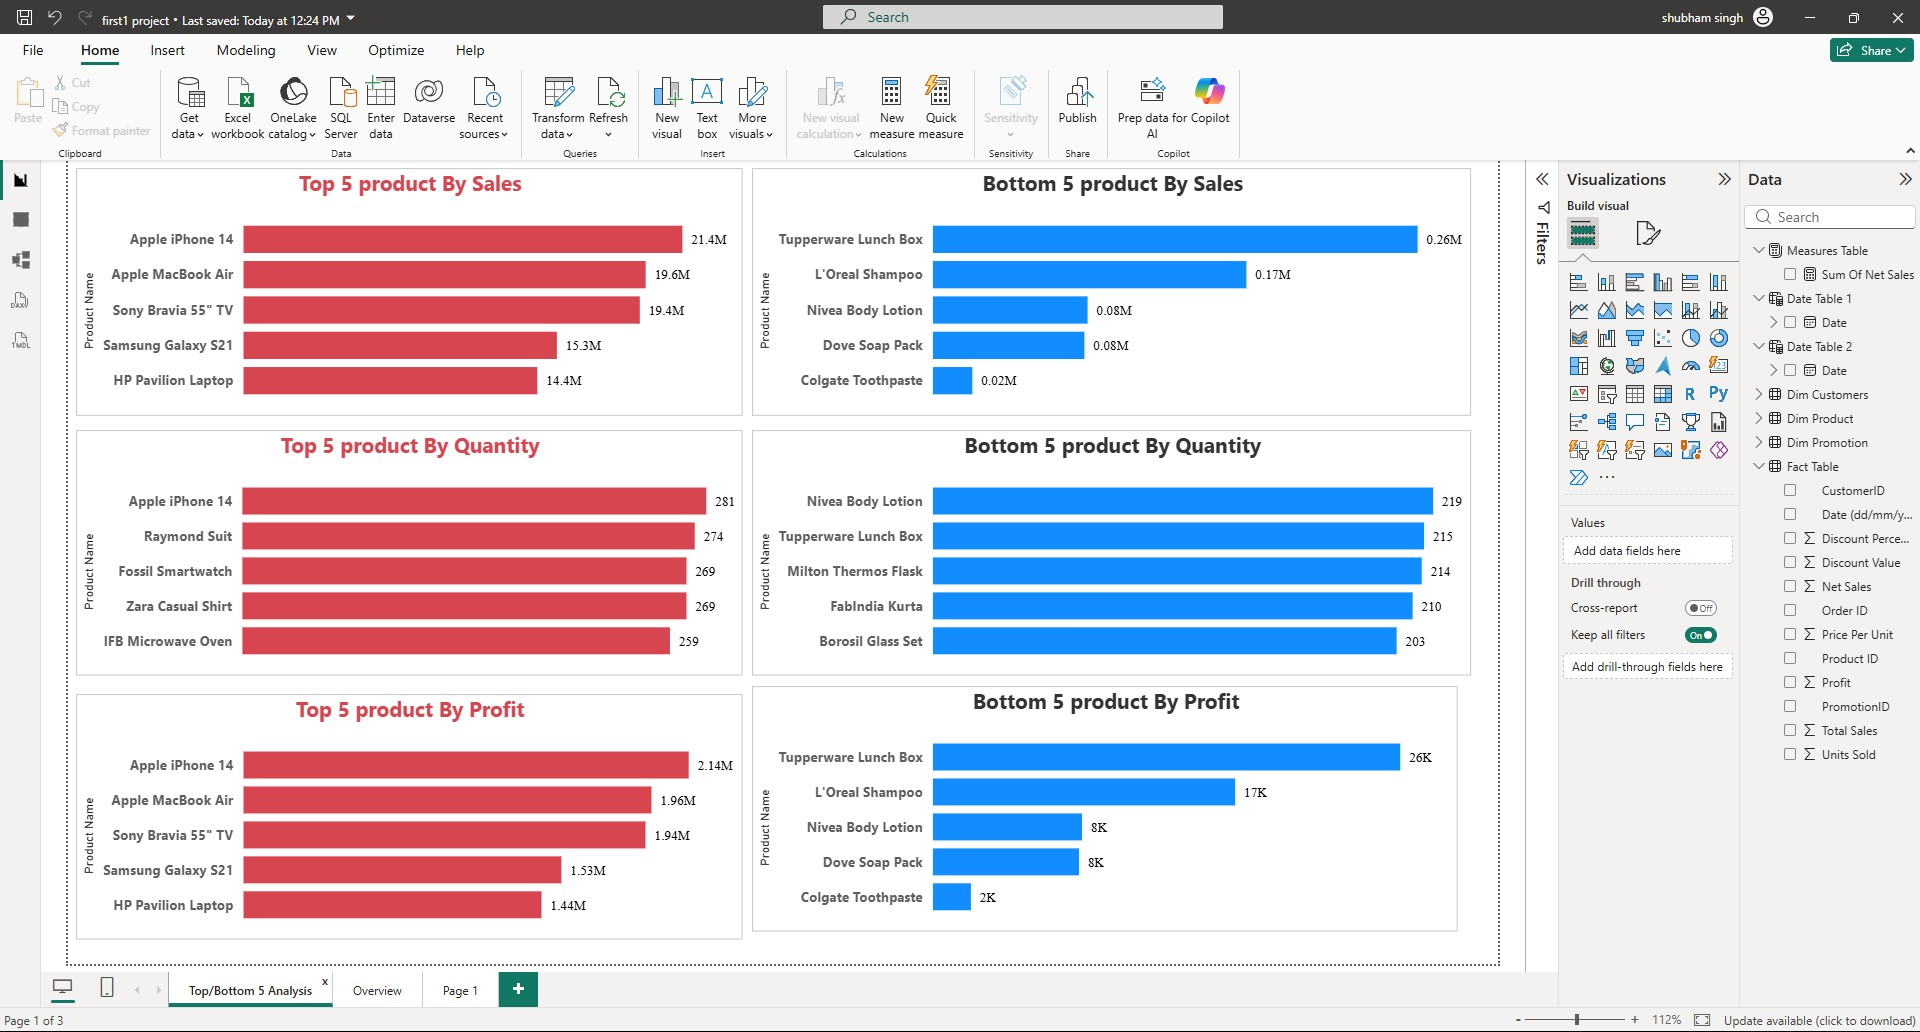

The dashboard page shown, as its layout file describes it:
{"tool":"powerbi","page":{"name":"Top/Bottom 5 Analysis","canvas":[1280,720],"ordinal":0},"visuals":[{"type":"barChart","title":"Top 5 product By Sales","fields":{"Category":["Dim Product.Product Name"],"Y":["Sum(Fact Table.Net Sales  )"]},"box":[6.9,6.9,596.5,222.2],"z":0},{"type":"barChart","title":"Bottom 5 product By Sales","fields":{"Category":["Dim Product.Product Name"],"Y":["Sum(Fact Table.Net Sales  )"]},"box":[612.3,6.9,644,222.2],"z":1000},{"type":"barChart","title":"Top 5 product By Quantity","fields":{"Category":["Dim Product.Product Name"],"Y":["Sum(Fact Table.Units Sold)"]},"box":[6.9,242,596.5,220.2],"z":2000},{"type":"barChart","title":"Bottom 5 product By Quantity","fields":{"Category":["Dim Product.Product Name"],"Y":["Sum(Fact Table.Units Sold)"]},"box":[612.3,242,644,220.2],"z":3000},{"type":"barChart","title":"Top 5 product By Profit","fields":{"Category":["Dim Product.Product Name"],"Y":["Sum(Fact Table.Profit)"]},"box":[6.9,478,596.5,220.2],"z":4000},{"type":"barChart","title":"Bottom 5 product By Profit","fields":{"Category":["Dim Product.Product Name"],"Y":["Sum(Fact Table.Profit)"]},"box":[612.3,471.1,632.1,220.2],"z":5000}]}

Visuals, with their boxes on the page's 1280x720 design canvas (x1, y1, x2, y2). These are canvas units, not pixel positions in the 1920x1032 screenshot, which may show the page scaled, cropped or inside an application window:
"Top 5 product By Sales" barChart: <bbox>7, 7, 603, 229</bbox>
"Bottom 5 product By Sales" barChart: <bbox>612, 7, 1256, 229</bbox>
"Top 5 product By Quantity" barChart: <bbox>7, 242, 603, 462</bbox>
"Bottom 5 product By Quantity" barChart: <bbox>612, 242, 1256, 462</bbox>
"Top 5 product By Profit" barChart: <bbox>7, 478, 603, 698</bbox>
"Bottom 5 product By Profit" barChart: <bbox>612, 471, 1244, 691</bbox>
